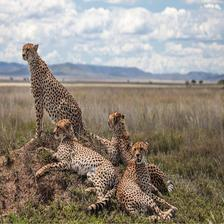Cheetah: (22, 41, 118, 149), (32, 117, 120, 214), (103, 110, 173, 199), (114, 141, 180, 220)
